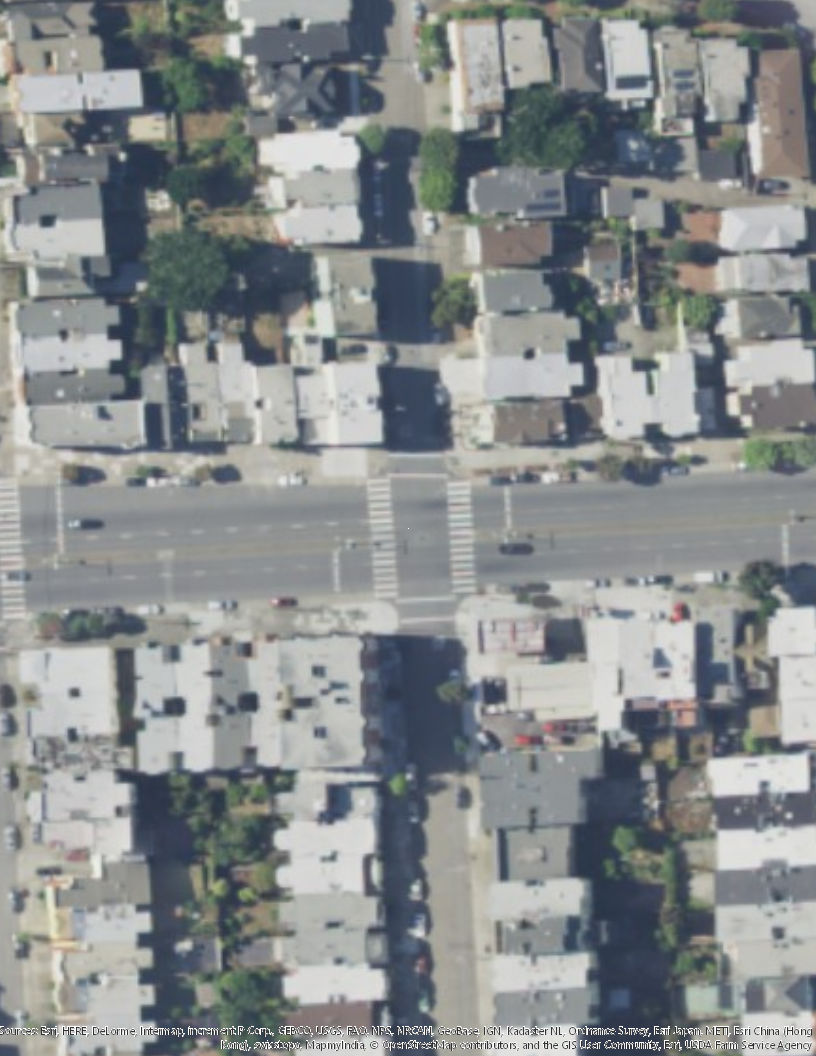zebracross: (363, 480, 403, 598), (442, 482, 479, 595), (1, 485, 29, 623)
